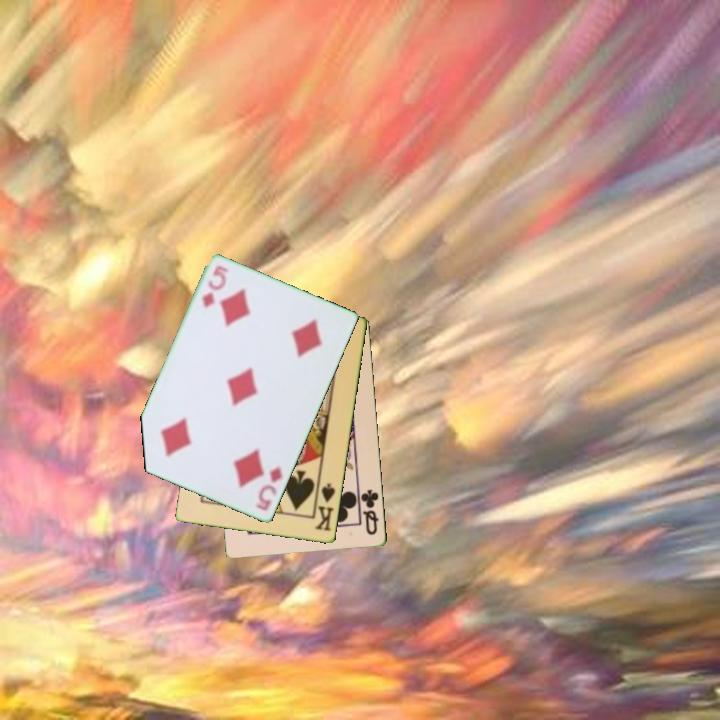5d: (252, 463, 285, 514), (199, 262, 231, 312)
Ks: (311, 479, 338, 534)
Qc: (356, 485, 382, 538)
